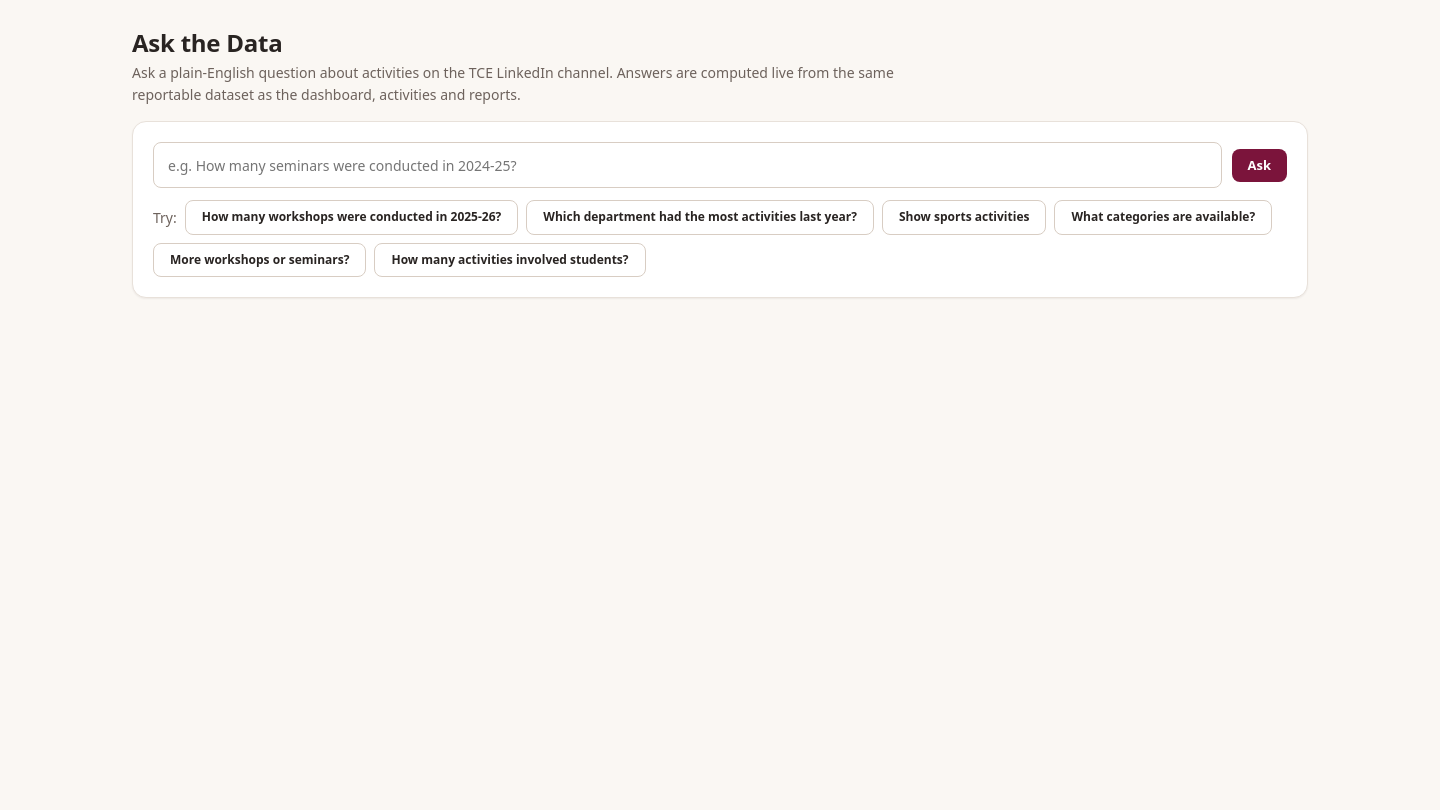
LinkedinPublicQuery › answers a question and shows activities returned by the API
Type "How many workshops were conducted in 2025-26?" into the field named "Your question" at (687, 165), box [153,142,1222,188]
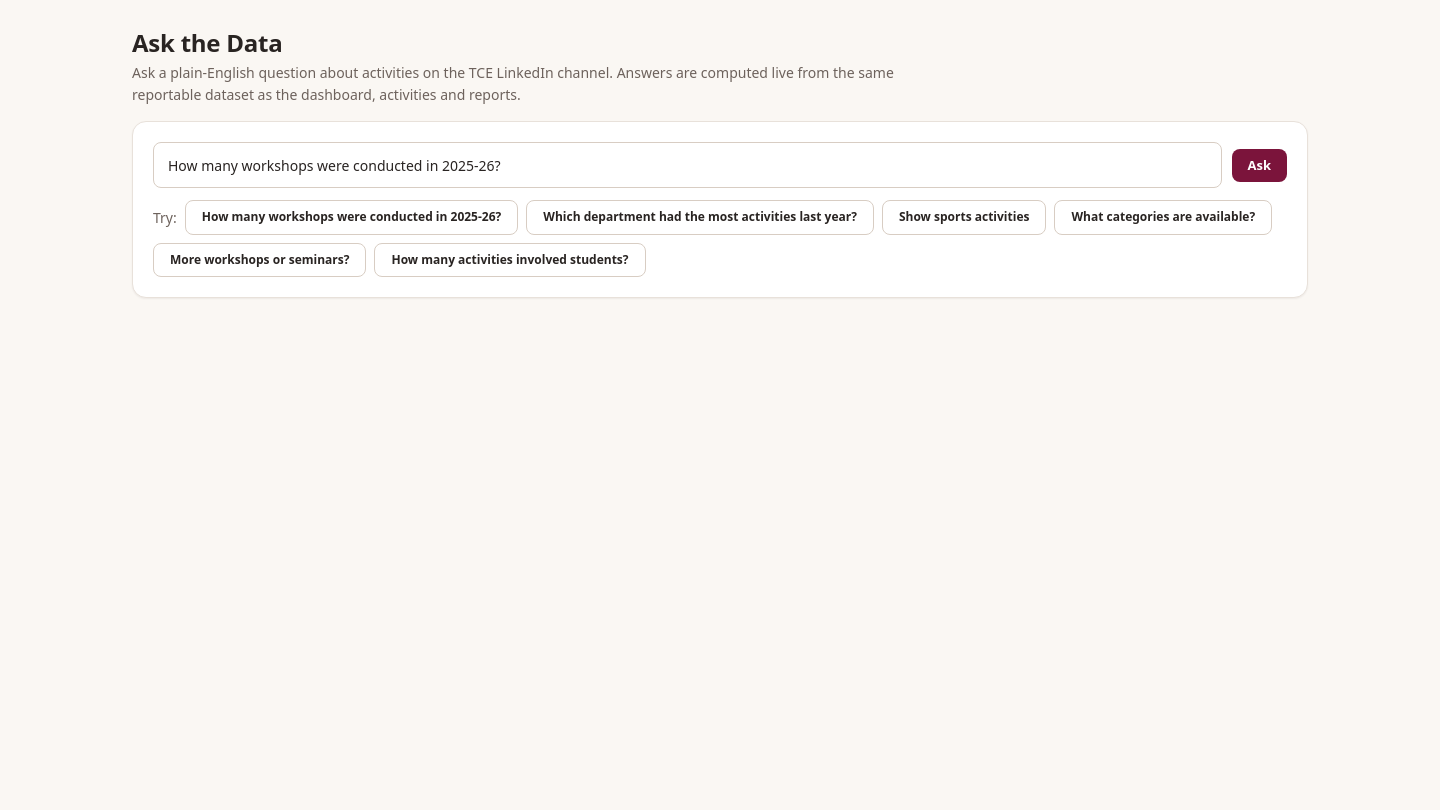
Click the button "Ask" at (1259, 165), box [1232,149,1287,182]
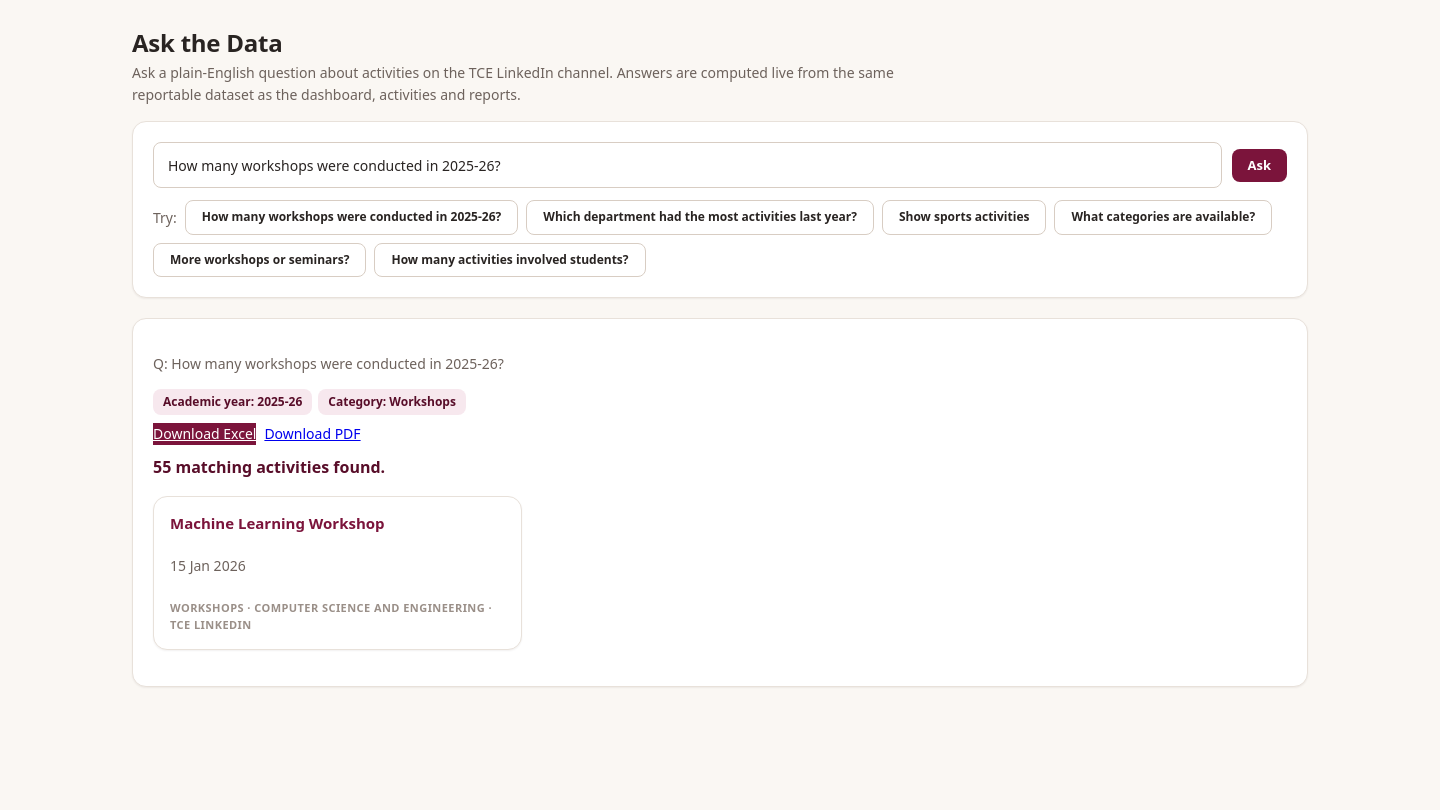
Check: the text "55 matching activities found." is shown, box [153,456,385,478]
Check: the text "Academic year: 2025-26" is shown, box [153,389,312,415]
Check: the text "Category: Workshops" is shown, box [318,389,466,415]
